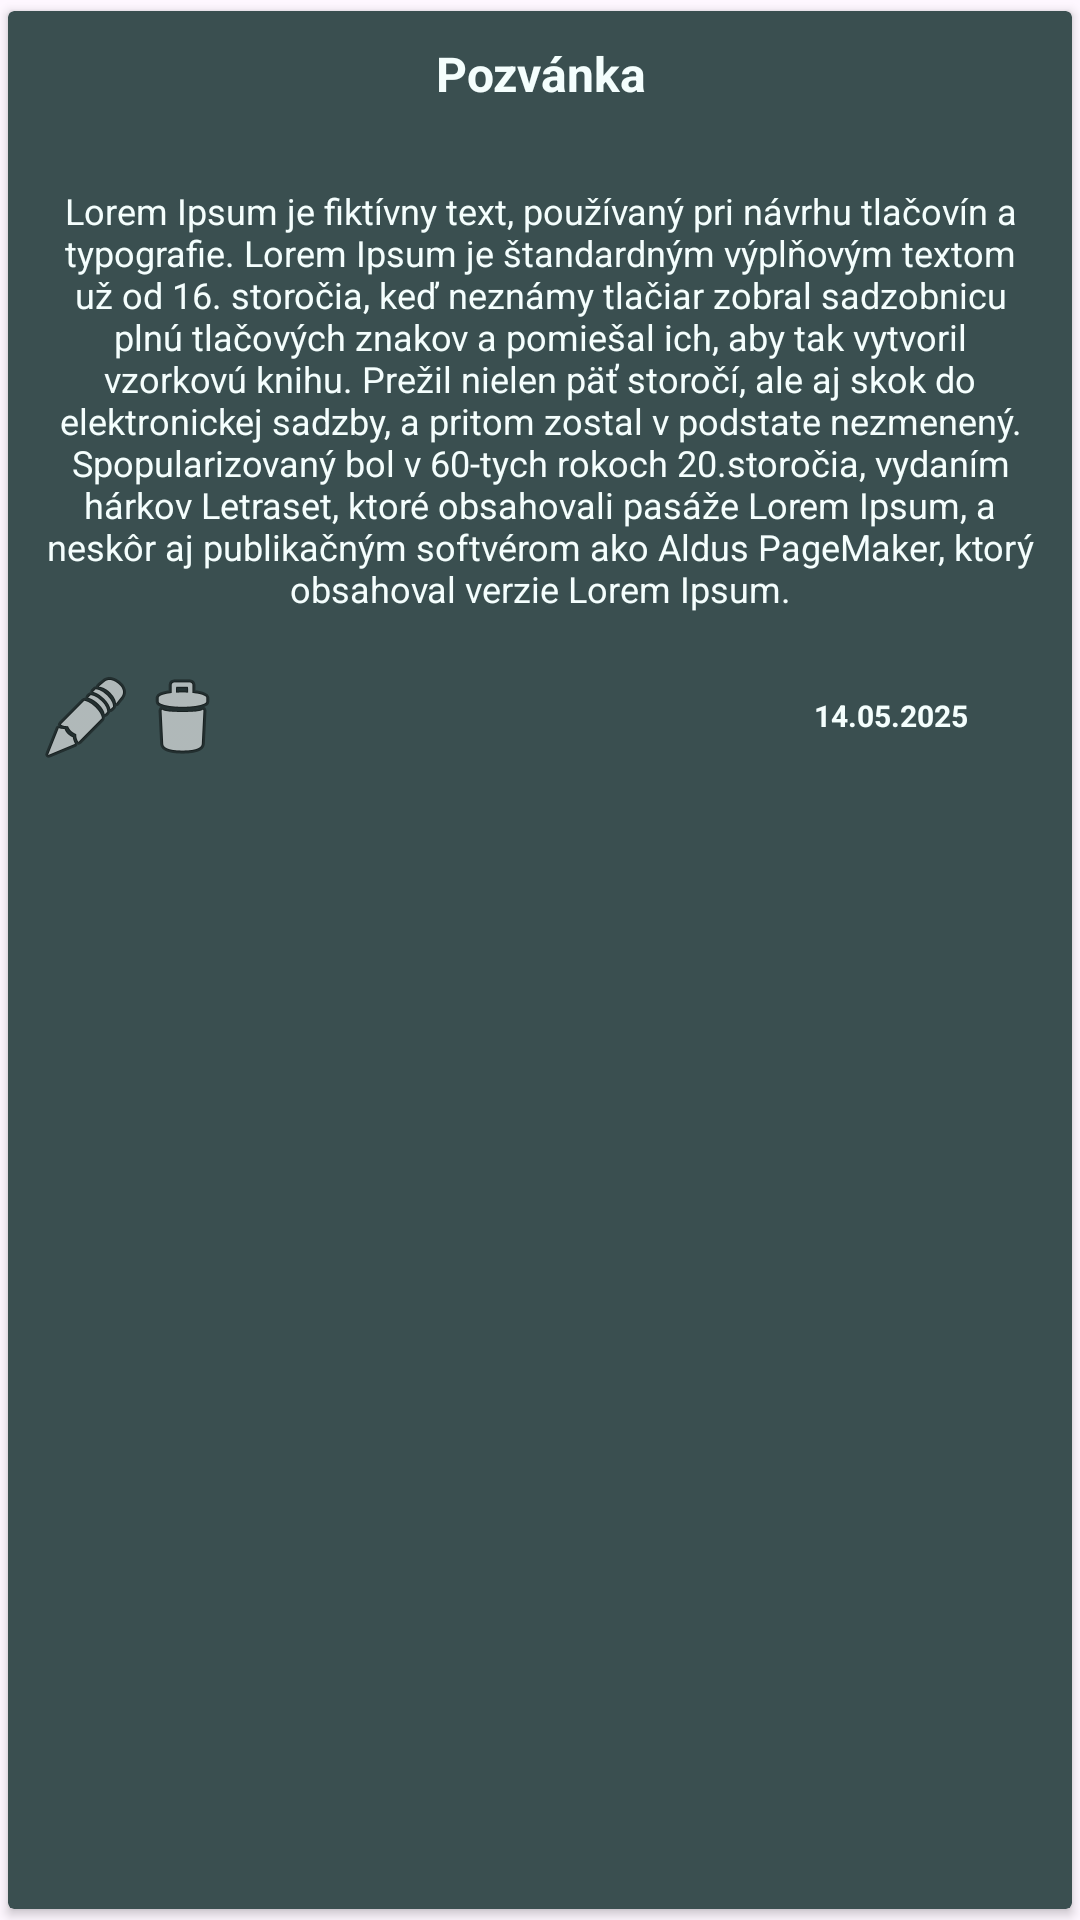

Icons on this 1080px×1920px Android screen, each with the point to tap as (x=x, y=y):
delete: (x=182, y=716)
edit: (x=86, y=717)
